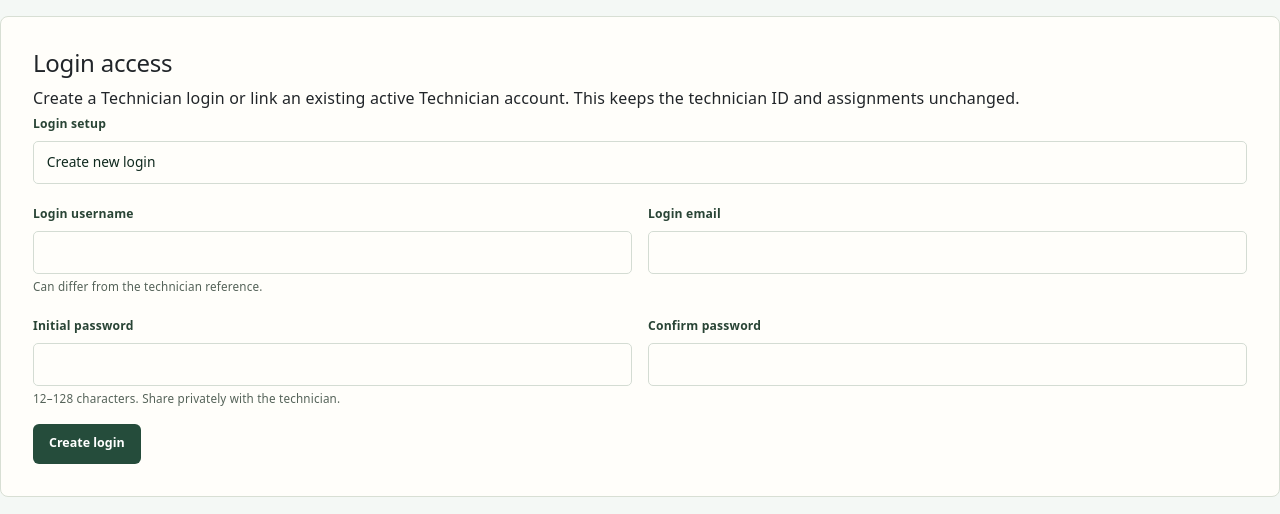
Test case: Technician login setup › creates login with Technician identity then removes password fields
In the field labelled "Login username": point(332, 253) [33,231,632,274], type "different.login"
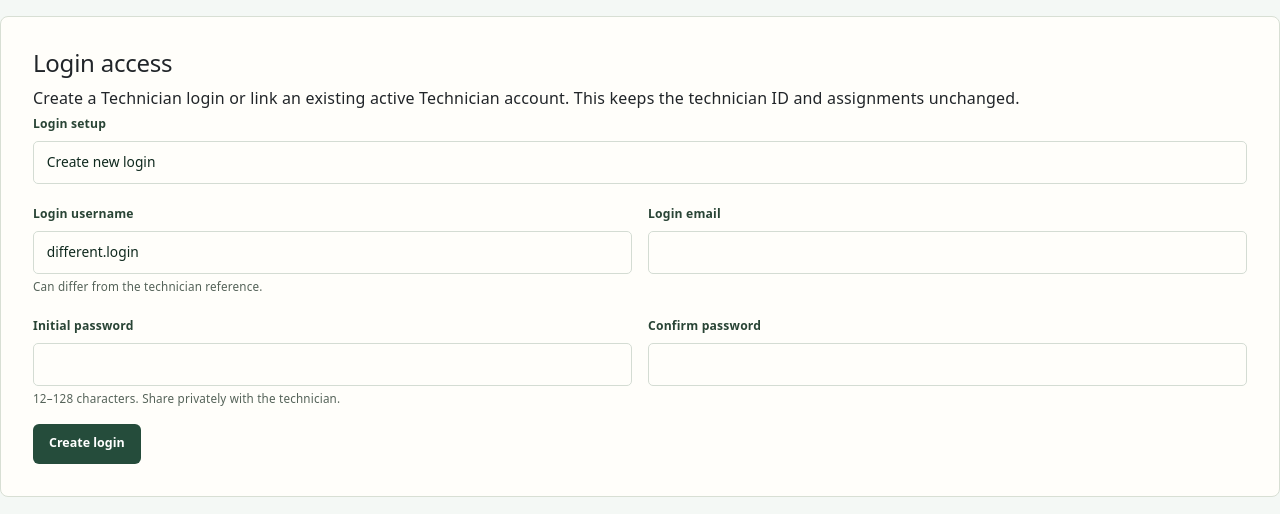
In the field labelled "Login email": point(948, 253) [648,231,1247,274], type "t@example.com"
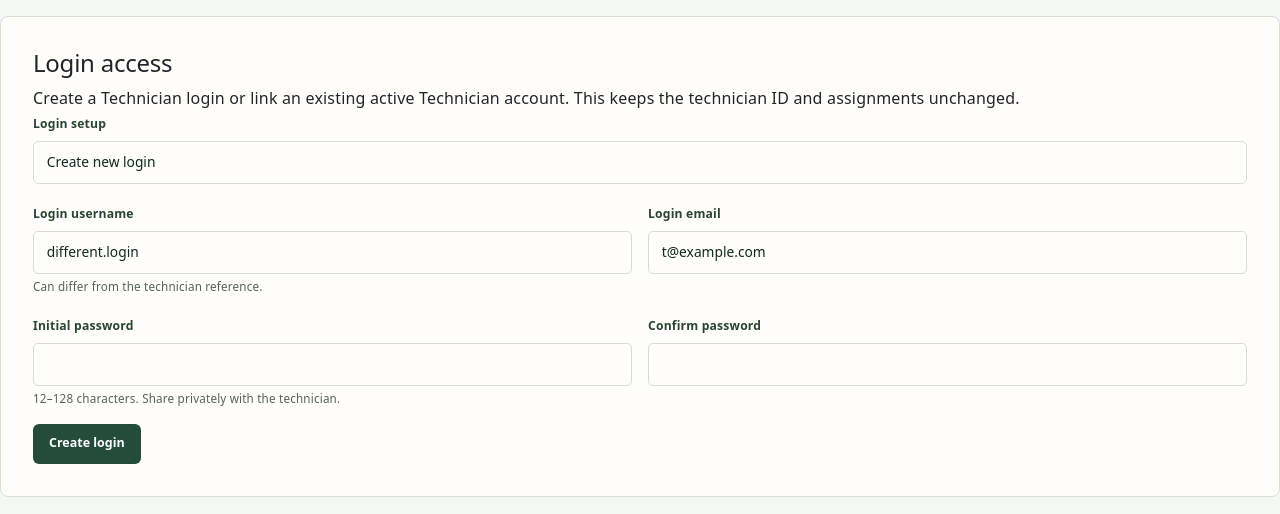
In the password field labelled "Initial password": point(332, 364) [33,343,632,386], type "ExamplePassword42!"
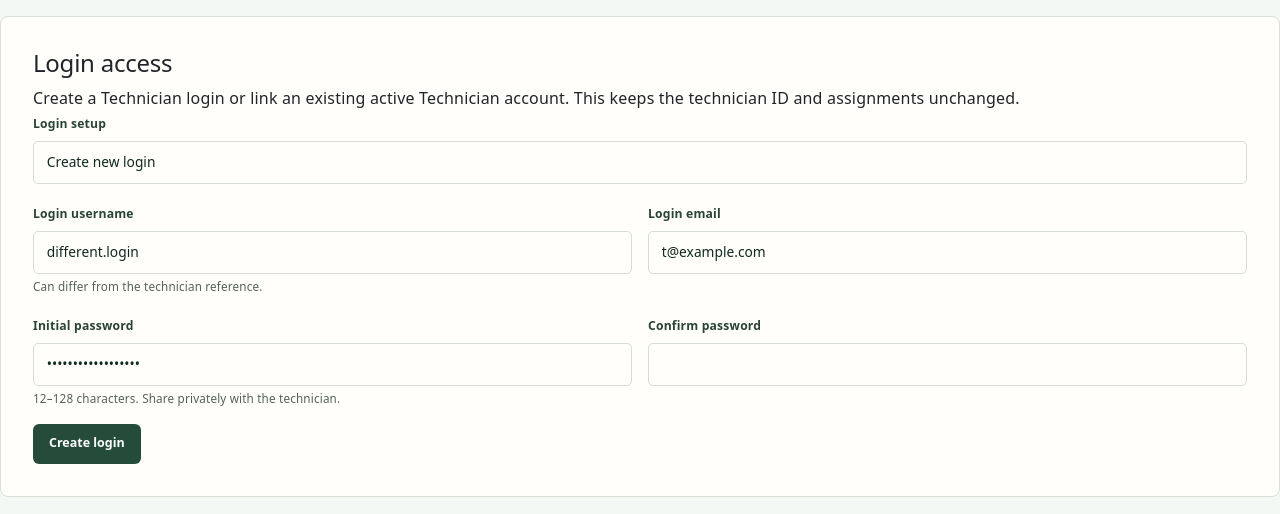
In the password field labelled "Confirm password": point(948, 364) [648,343,1247,386], type "ExamplePassword42!"
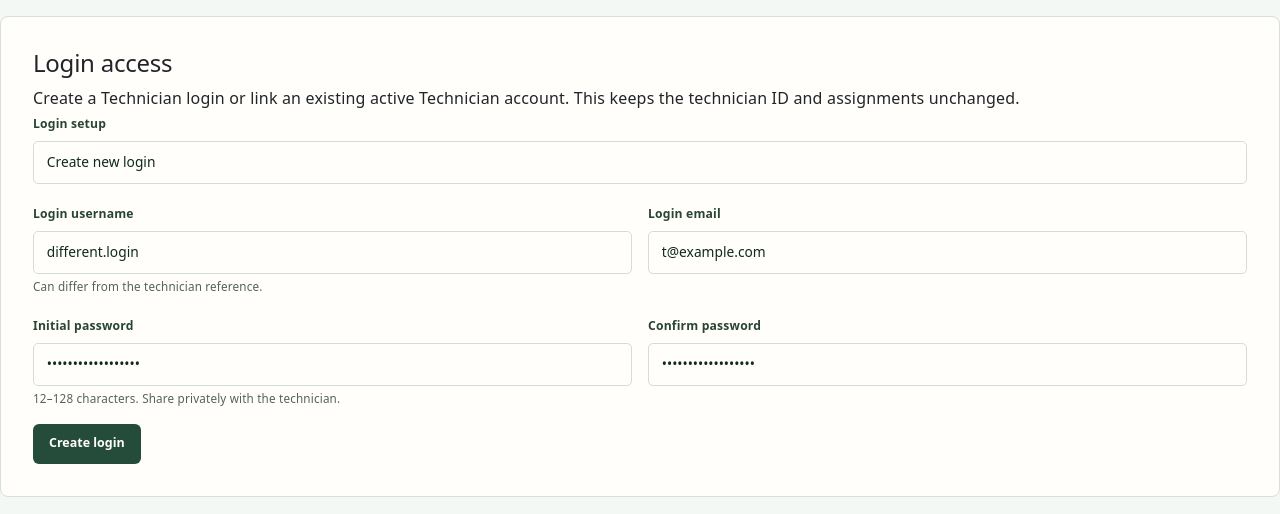
Click the button "Create login": point(87, 444) [33,424,141,464]
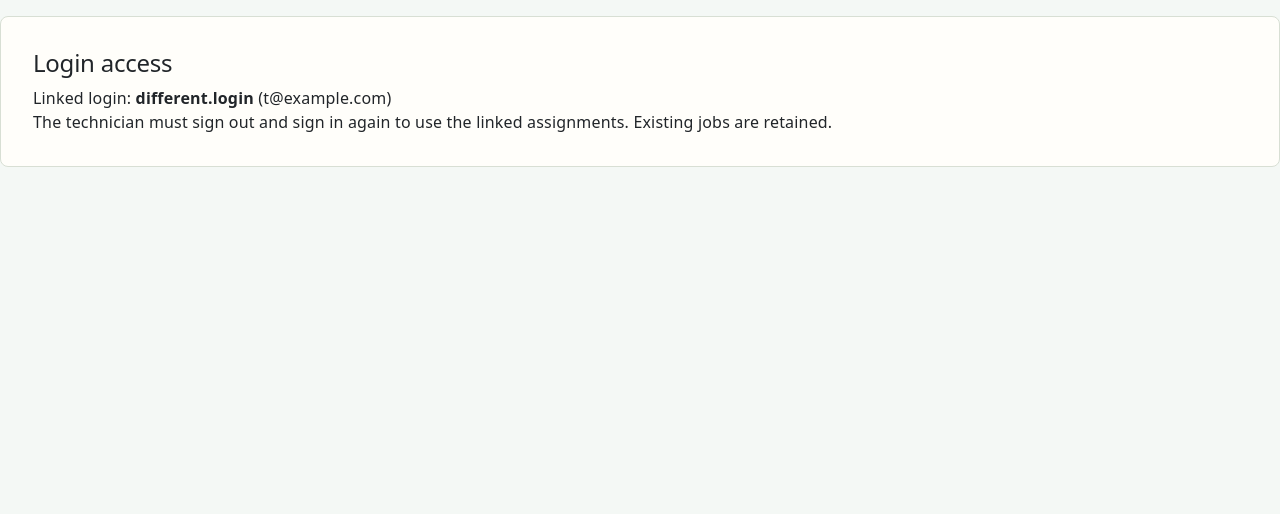
Check: the text "different.login" is shown, box [136,87,254,109]
Check: the label labelled "Initial password" is gone
